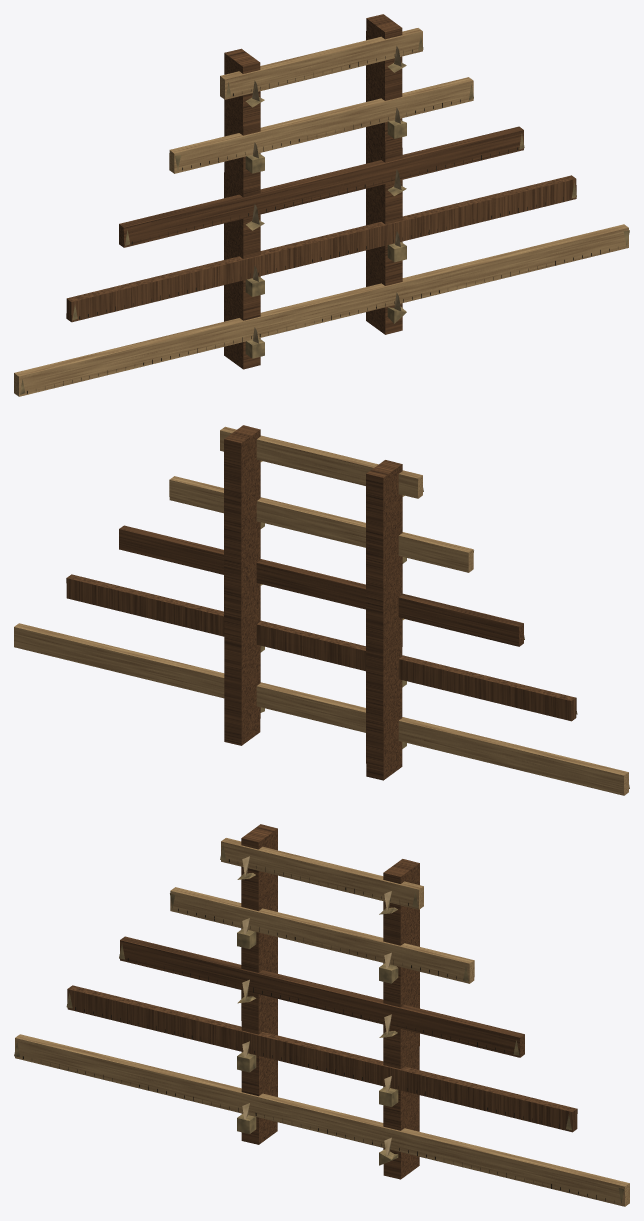
Rendered from EastFiveStraightedges_LOD2.fbx.
The picture shows the model from 3 angles, top to bottom: view 1: azimuth 30°, elevation 25°; view 2: azimuth 150°, elevation 25°; view 3: azimuth 330°, elevation 25°; orthographic projection.
Visible parts, largest first — view 1: EastFiveStraightedges.001; view 2: EastFiveStraightedges.001; view 3: EastFiveStraightedges.001.
Part boxes in pixels (box(x1,y1,x2,y2)): EastFiveStraightedges.001: box(14, 14, 629, 396); EastFiveStraightedges.001: box(14, 425, 629, 795); EastFiveStraightedges.001: box(14, 824, 629, 1206).
Size of the model in its own units: 1.98 by 0.9375 by 0.1458.
1 material, 1 textured.
